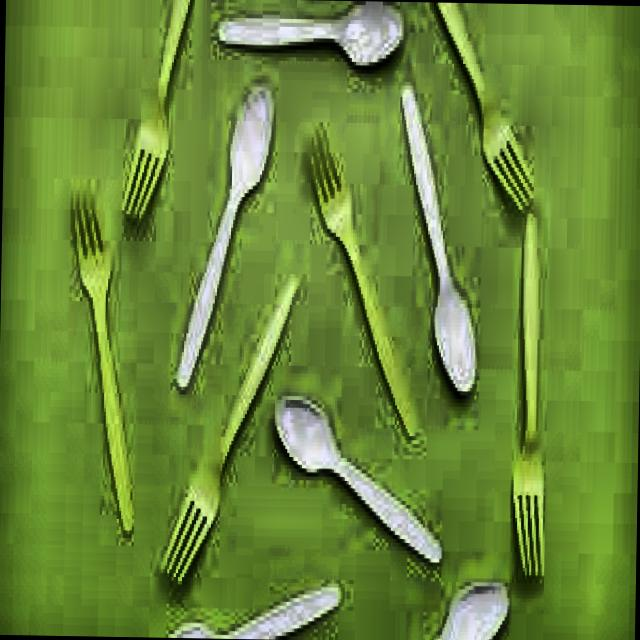plastic utensil: (163, 280, 296, 583), (312, 127, 412, 435), (179, 89, 269, 387), (276, 395, 441, 557), (73, 192, 133, 535), (436, 2, 533, 211), (405, 86, 470, 392), (122, 0, 188, 222), (221, 1, 402, 67), (512, 211, 544, 578)
